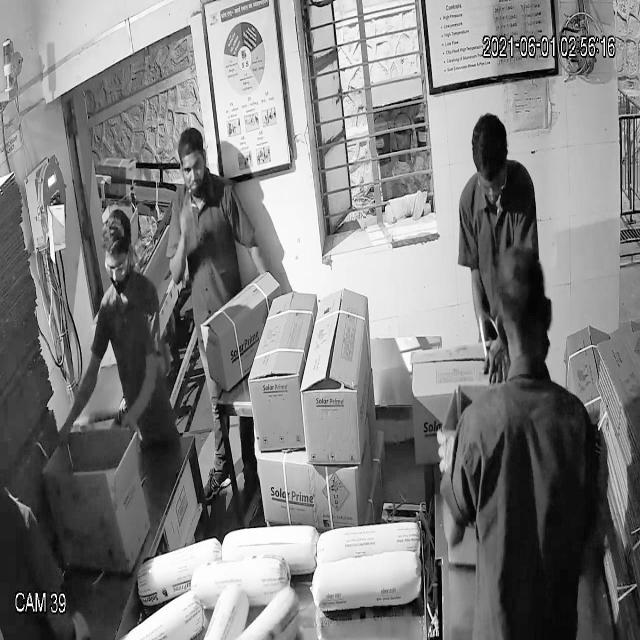glasses: (101, 244, 133, 282)
